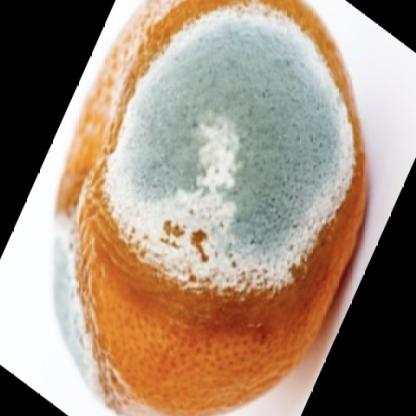rotten: (57, 1, 371, 416)
